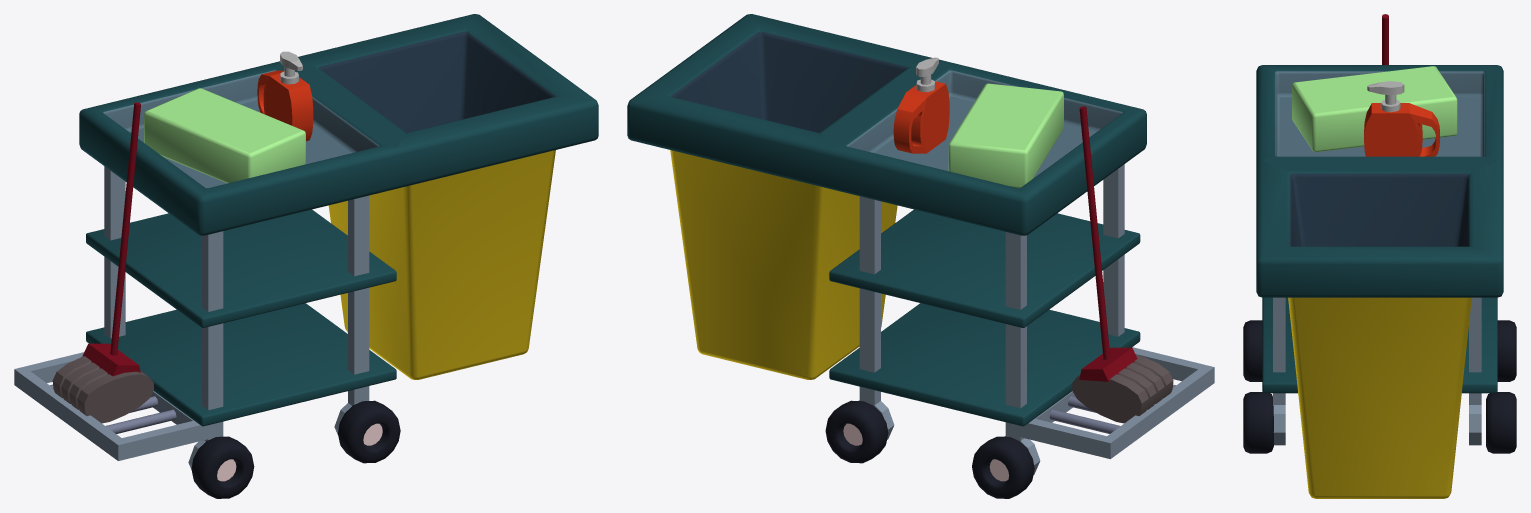
The model's file is 14_clean_prop.fbx.
3 views of the same model, side by side, from view 1: azimuth 30°, elevation 25°; view 2: azimuth 150°, elevation 25°; view 3: azimuth 270°, elevation 25° (orthographic).
Visible parts, largest first — view 1: 14_clean_prop; view 2: 14_clean_prop; view 3: 14_clean_prop.
Part boxes in pixels (x1,y1,x2,y2): 14_clean_prop: (14,14,598,498); 14_clean_prop: (627,14,1214,498); 14_clean_prop: (1243,14,1516,498).
Size of the model in its own units: 171 by 123 by 85.08.
